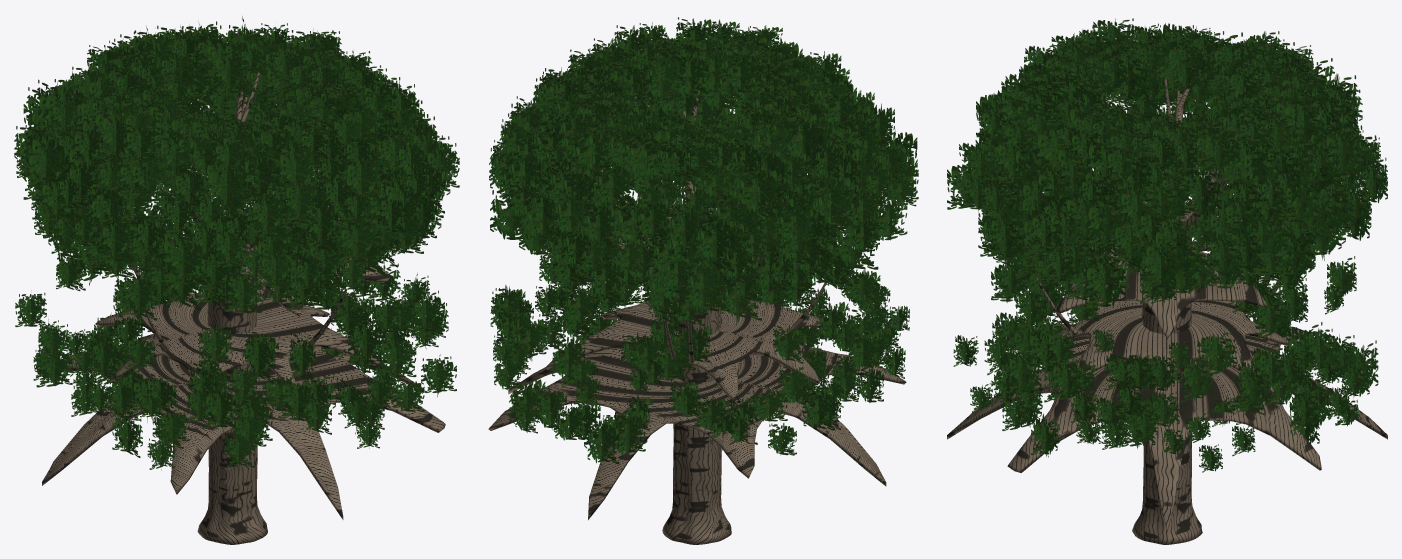
The model's file is liberty-elm-hero.glb.
3 views of the same model, side by side, from view 1: azimuth 30°, elevation 25°; view 2: azimuth 150°, elevation 25°; view 3: azimuth 270°, elevation 25° (orthographic).
Visible parts, largest first — view 1: liberty-elm-hero; view 2: liberty-elm-hero; view 3: liberty-elm-hero.
Boxes of the visible parts, box(x1,y1,x2,y2) form: liberty-elm-hero: box(14, 16, 459, 544); liberty-elm-hero: box(488, 17, 918, 544); liberty-elm-hero: box(947, 18, 1387, 544).
Bounding box in the file's own units: 16 × 18 × 16.
Materials: 2 (2 with a texture image).
